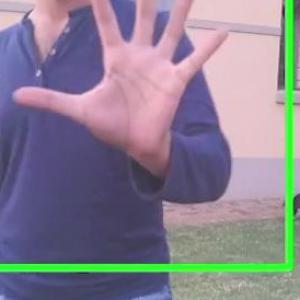follow_hand: (7, 0, 238, 159)
